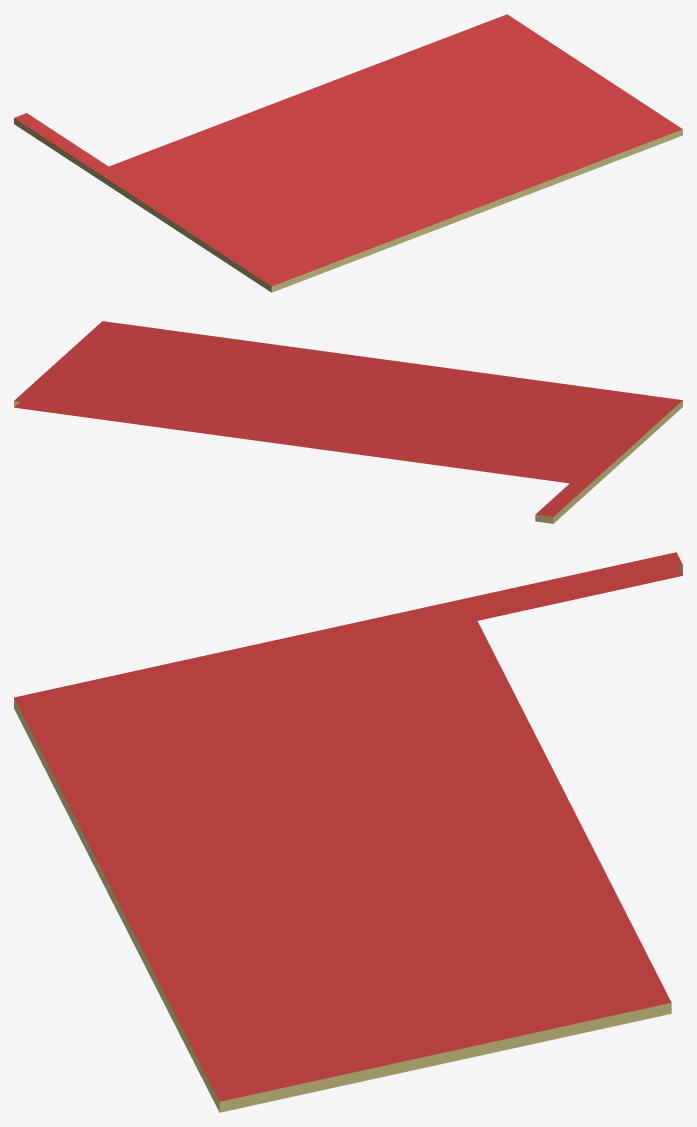
3 renders of one model, top to bottom at view 1: azimuth 30°, elevation 25°; view 2: azimuth 150°, elevation 25°; view 3: azimuth 270°, elevation 25°, orthographic. The views are drawn at different scales.
Size of the model in its own units: 9.05 by 5.51 by 0.873.
